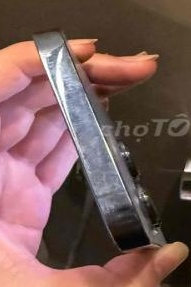scratch: (40, 45, 144, 228)
